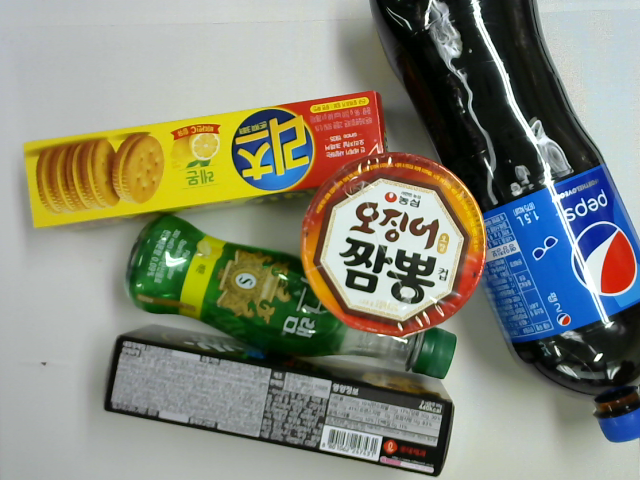Chicchok_Original_2400: (104, 321, 451, 480)
Ojjam: (299, 152, 489, 339)
Pepsi_Cola_1.5L: (368, 1, 640, 444)
Ritz_Remon_96g: (20, 87, 392, 233)
Seagram_Lemon_Carbonated_Water: (125, 212, 458, 384)
